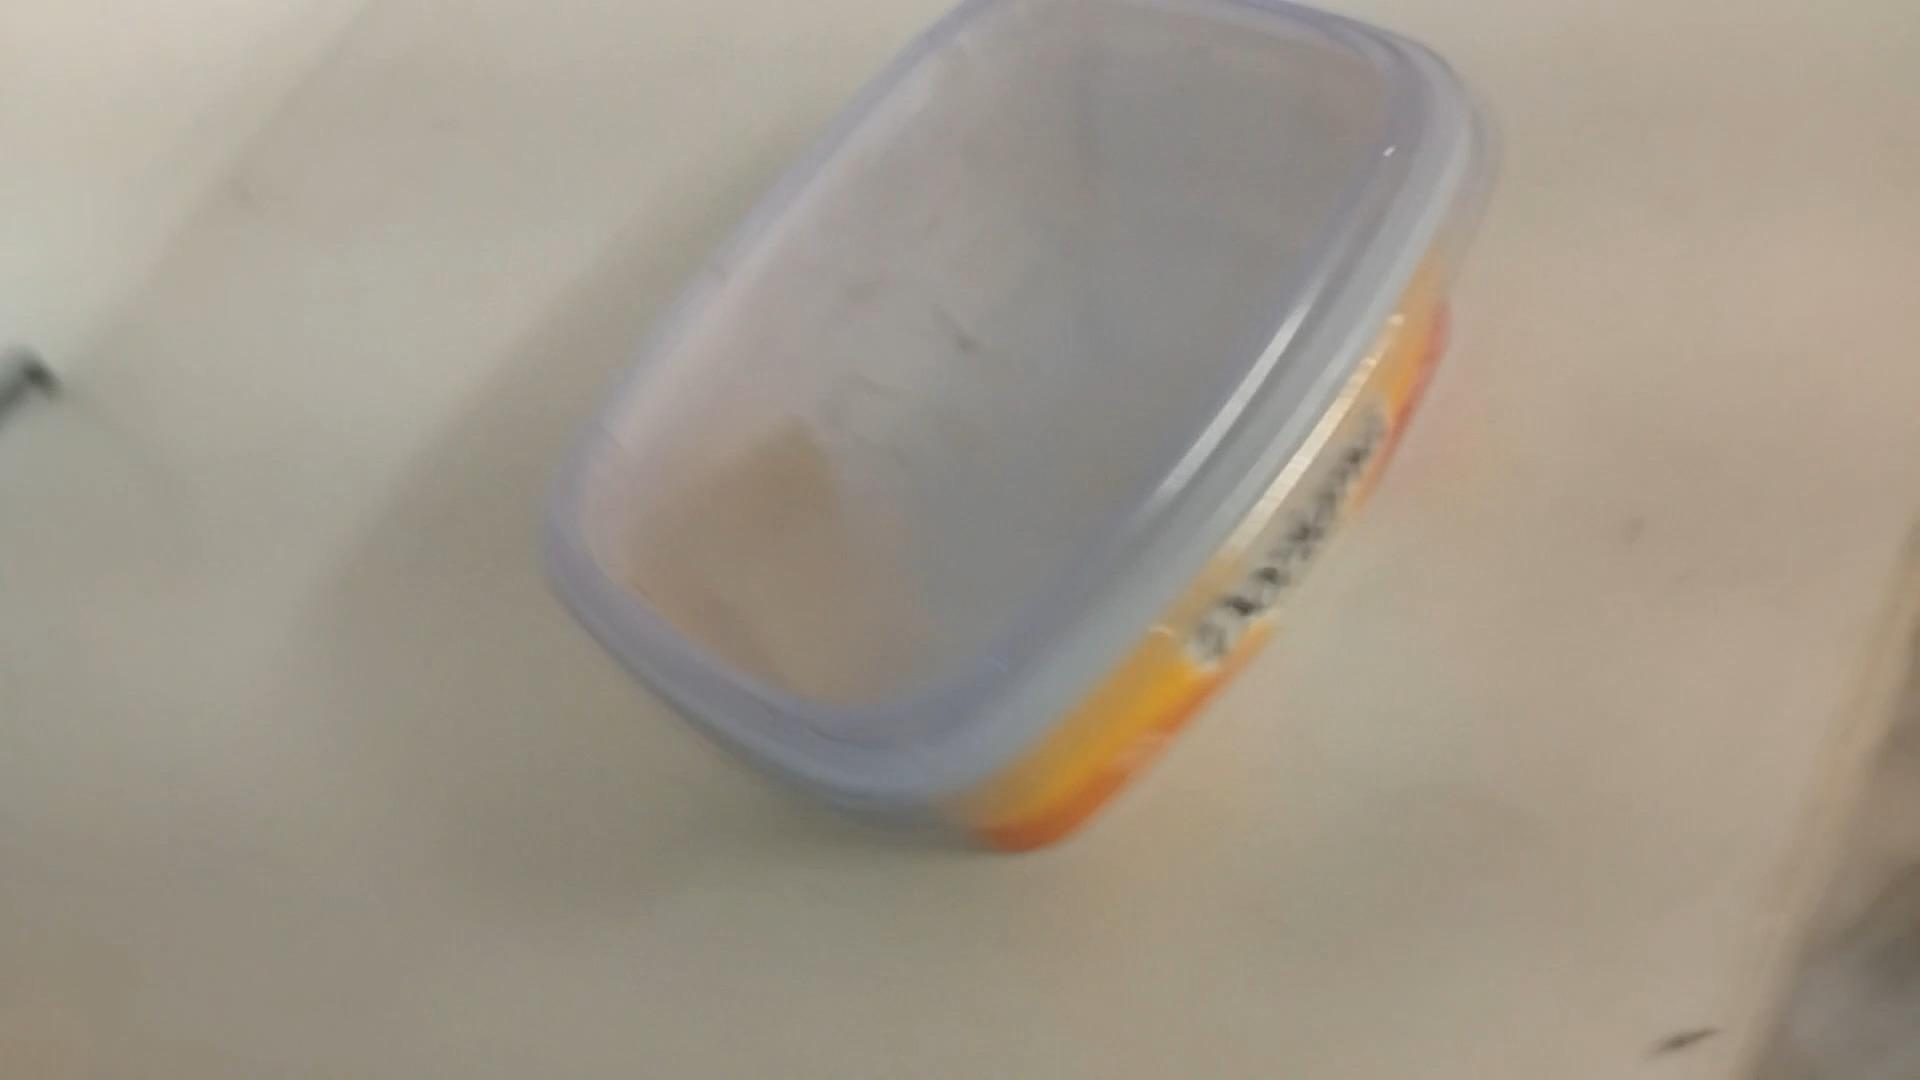butter: (541, 0, 1486, 857)
